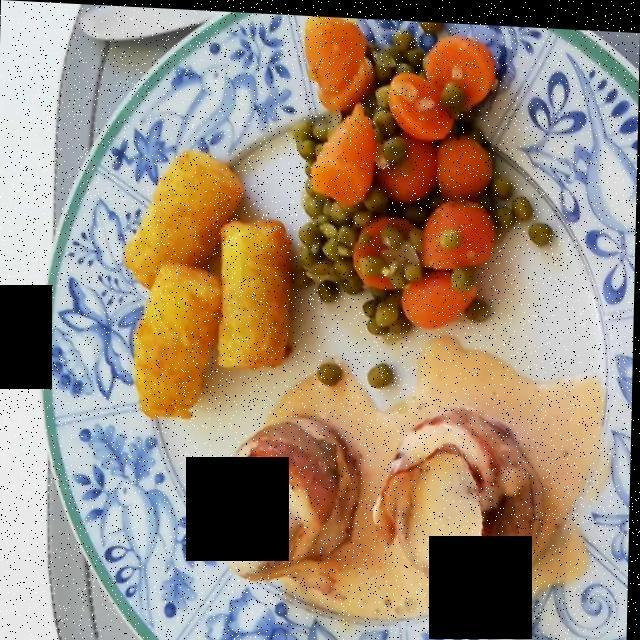sauce: (258, 349, 592, 621)
vegetables: (303, 21, 519, 328)
